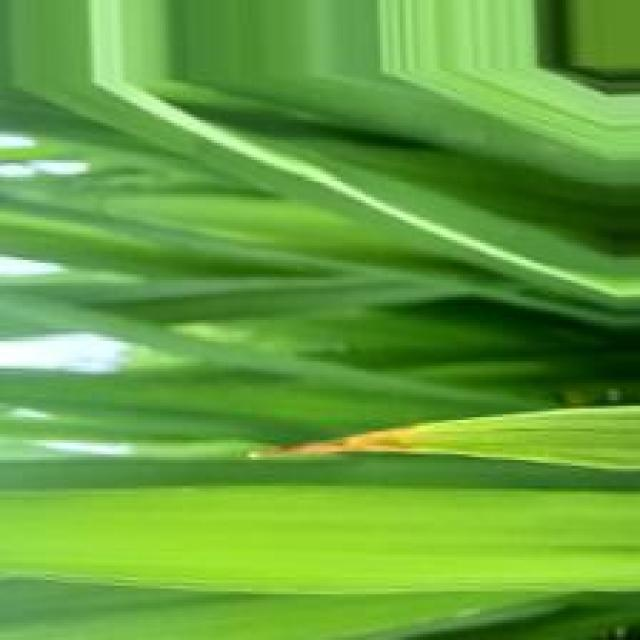HealthyLeaf: (98, 491, 637, 592)
